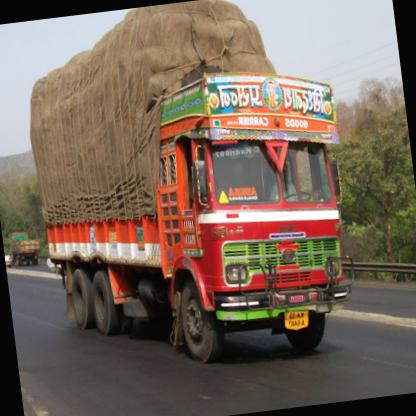car: (4, 249, 10, 266)
truck: (20, 0, 364, 384), (7, 226, 43, 267)
